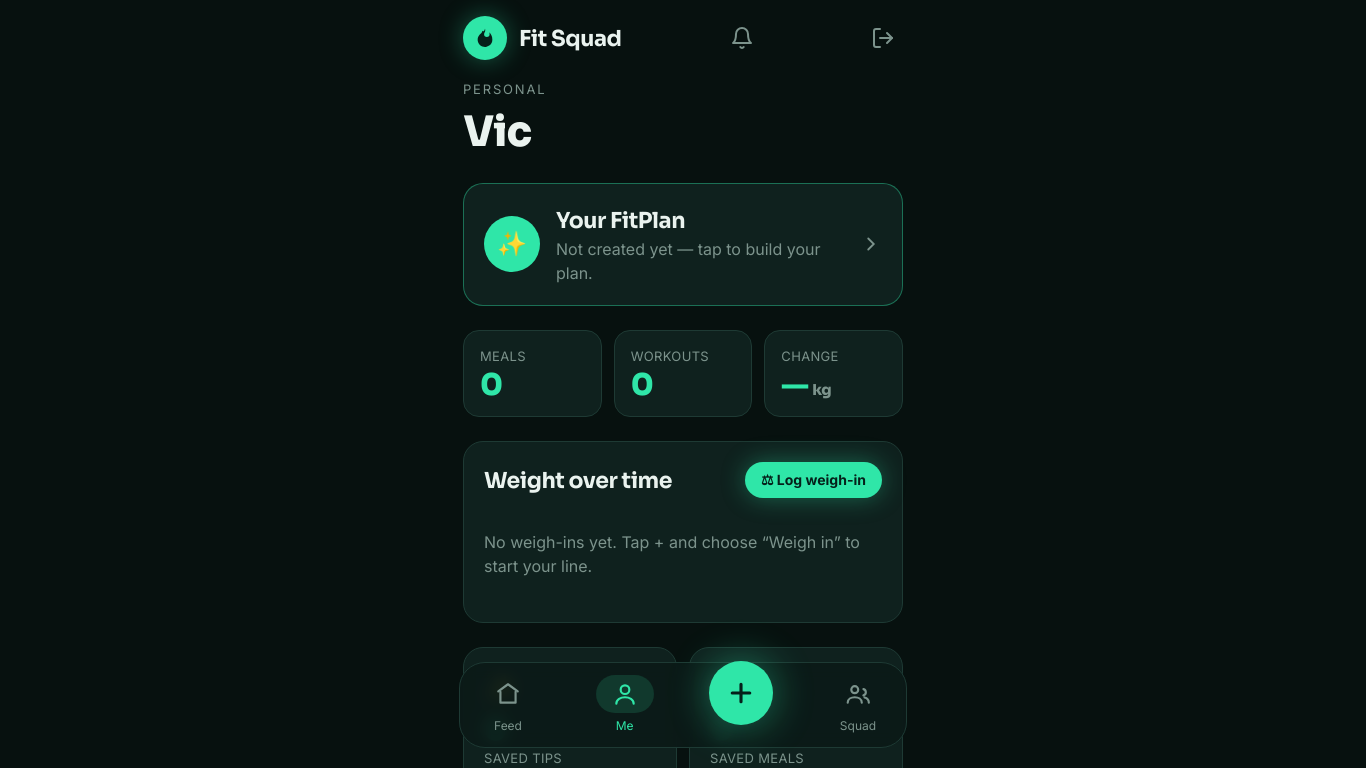
Test: logging a weigh-in from Me › opens the log sheet on the weight step, not the type picker
Check: the heading "Weight over time" is shown, box [484,464,672,496]
Step 1. Click the button "⚖ Log weigh-in" → coordinates (814, 480), box [745,462,882,498]
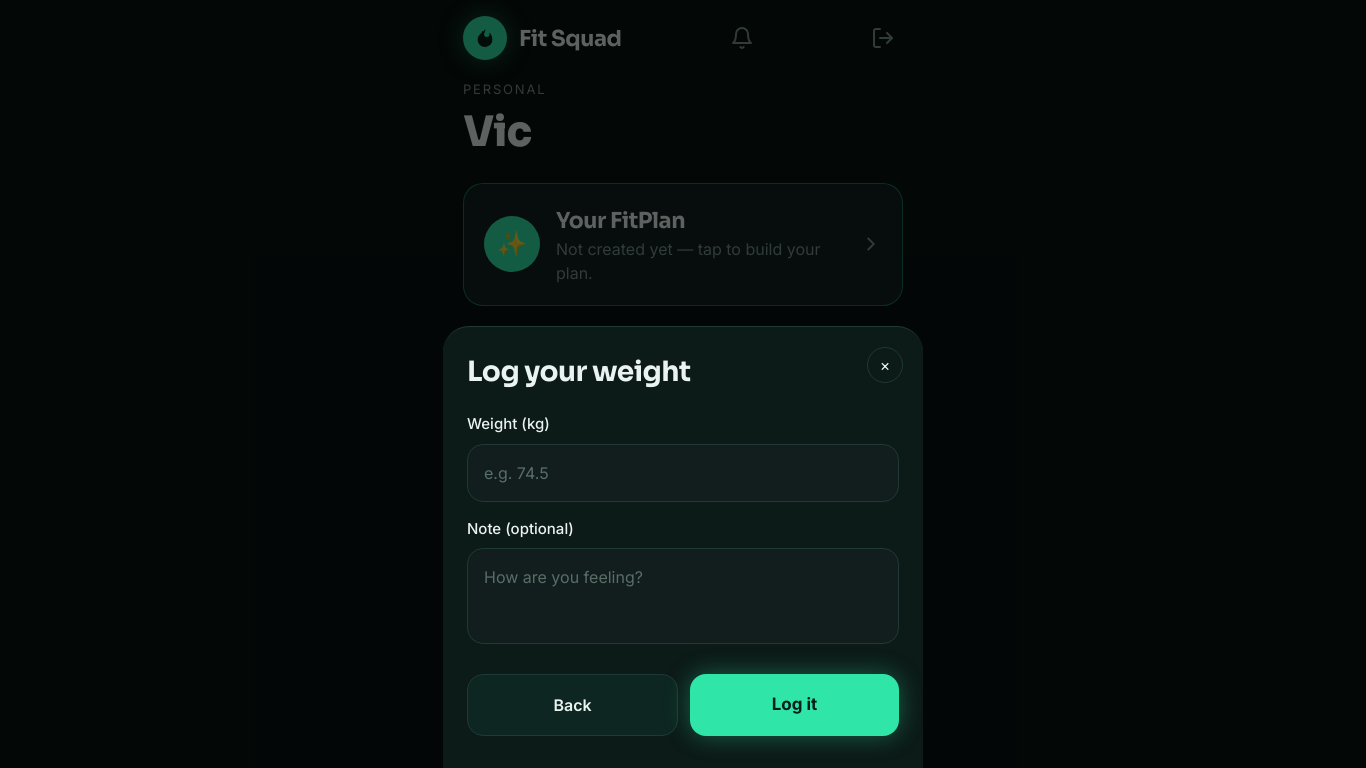
Check: the dialog is shown
Check: the heading "Log your weight" is shown, box [467,354,690,389]
